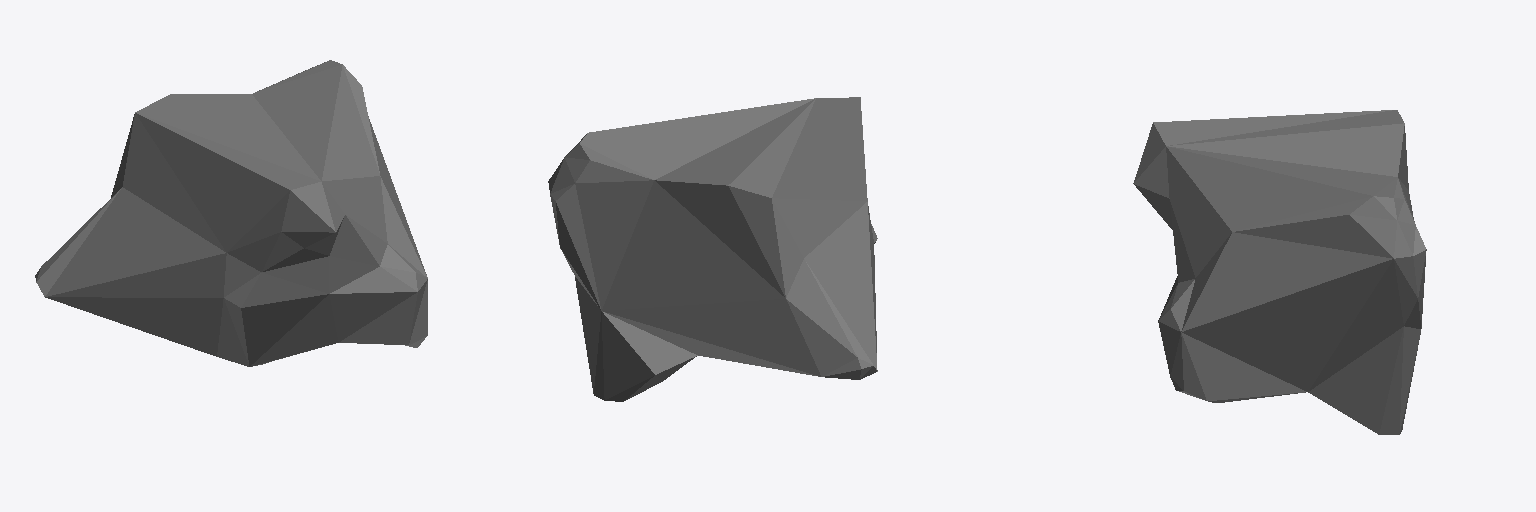
Rendered from rock.obj.
The picture shows the model from 3 angles: view 1: azimuth 30°, elevation 25°; view 2: azimuth 150°, elevation 25°; view 3: azimuth 270°, elevation 25°; orthographic projection.
Parts seen in each view (by area): view 1: rock; view 2: rock; view 3: rock.
Part boxes in pixels (x1,y1,x2,y2): rock: (35, 60, 427, 366); rock: (548, 97, 877, 401); rock: (1133, 110, 1426, 434).
Bounding box in the file's own units: 1.87 × 1.37 × 1.46.